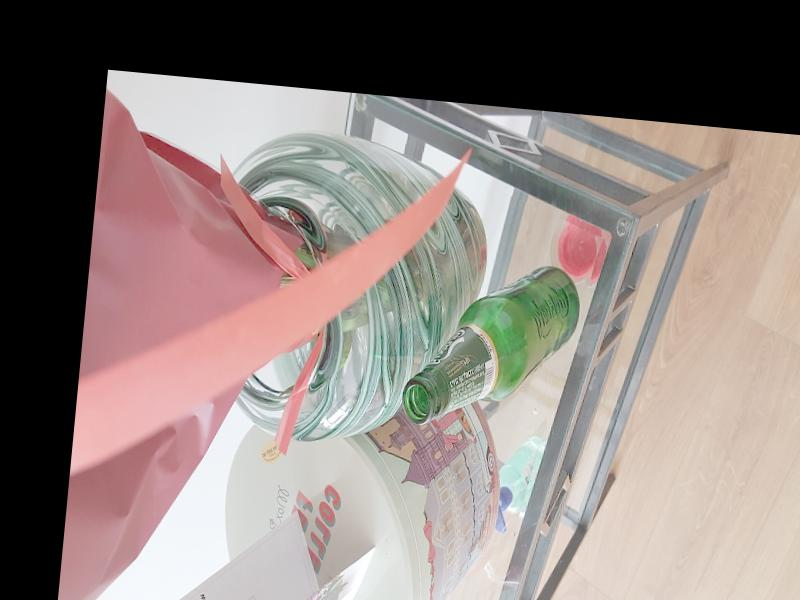Beer: (401, 251, 583, 437)
